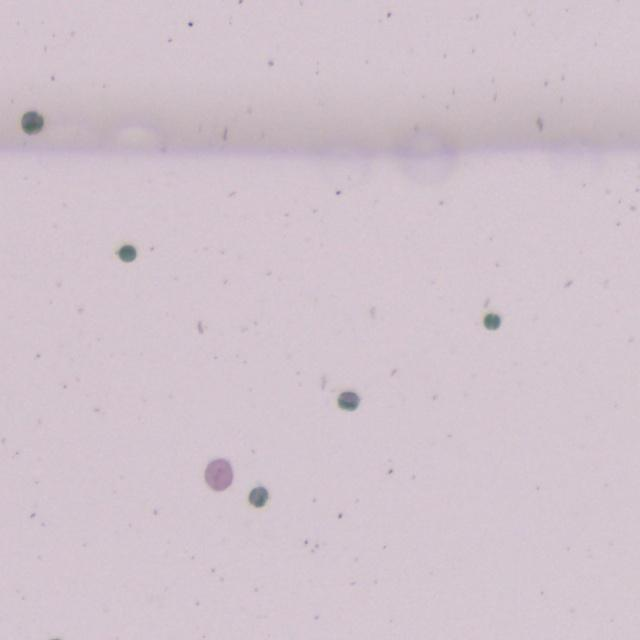intermediate: (204, 459, 232, 490)
non_viable: (21, 111, 43, 134), (248, 486, 268, 507), (338, 391, 359, 410), (117, 244, 136, 262), (483, 313, 500, 330)
